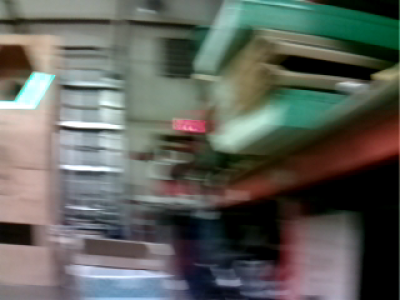target: (1, 71, 55, 109)
